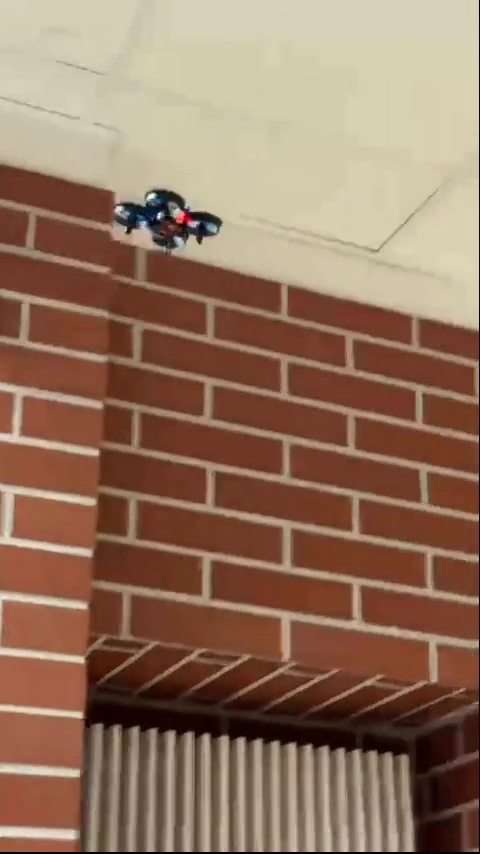drone: (116, 187, 218, 258)
